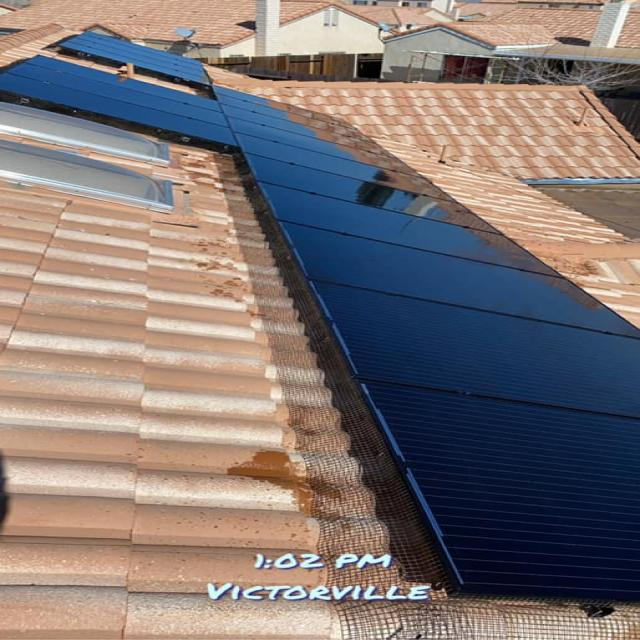clean-solar-panel: (5, 56, 636, 600)
